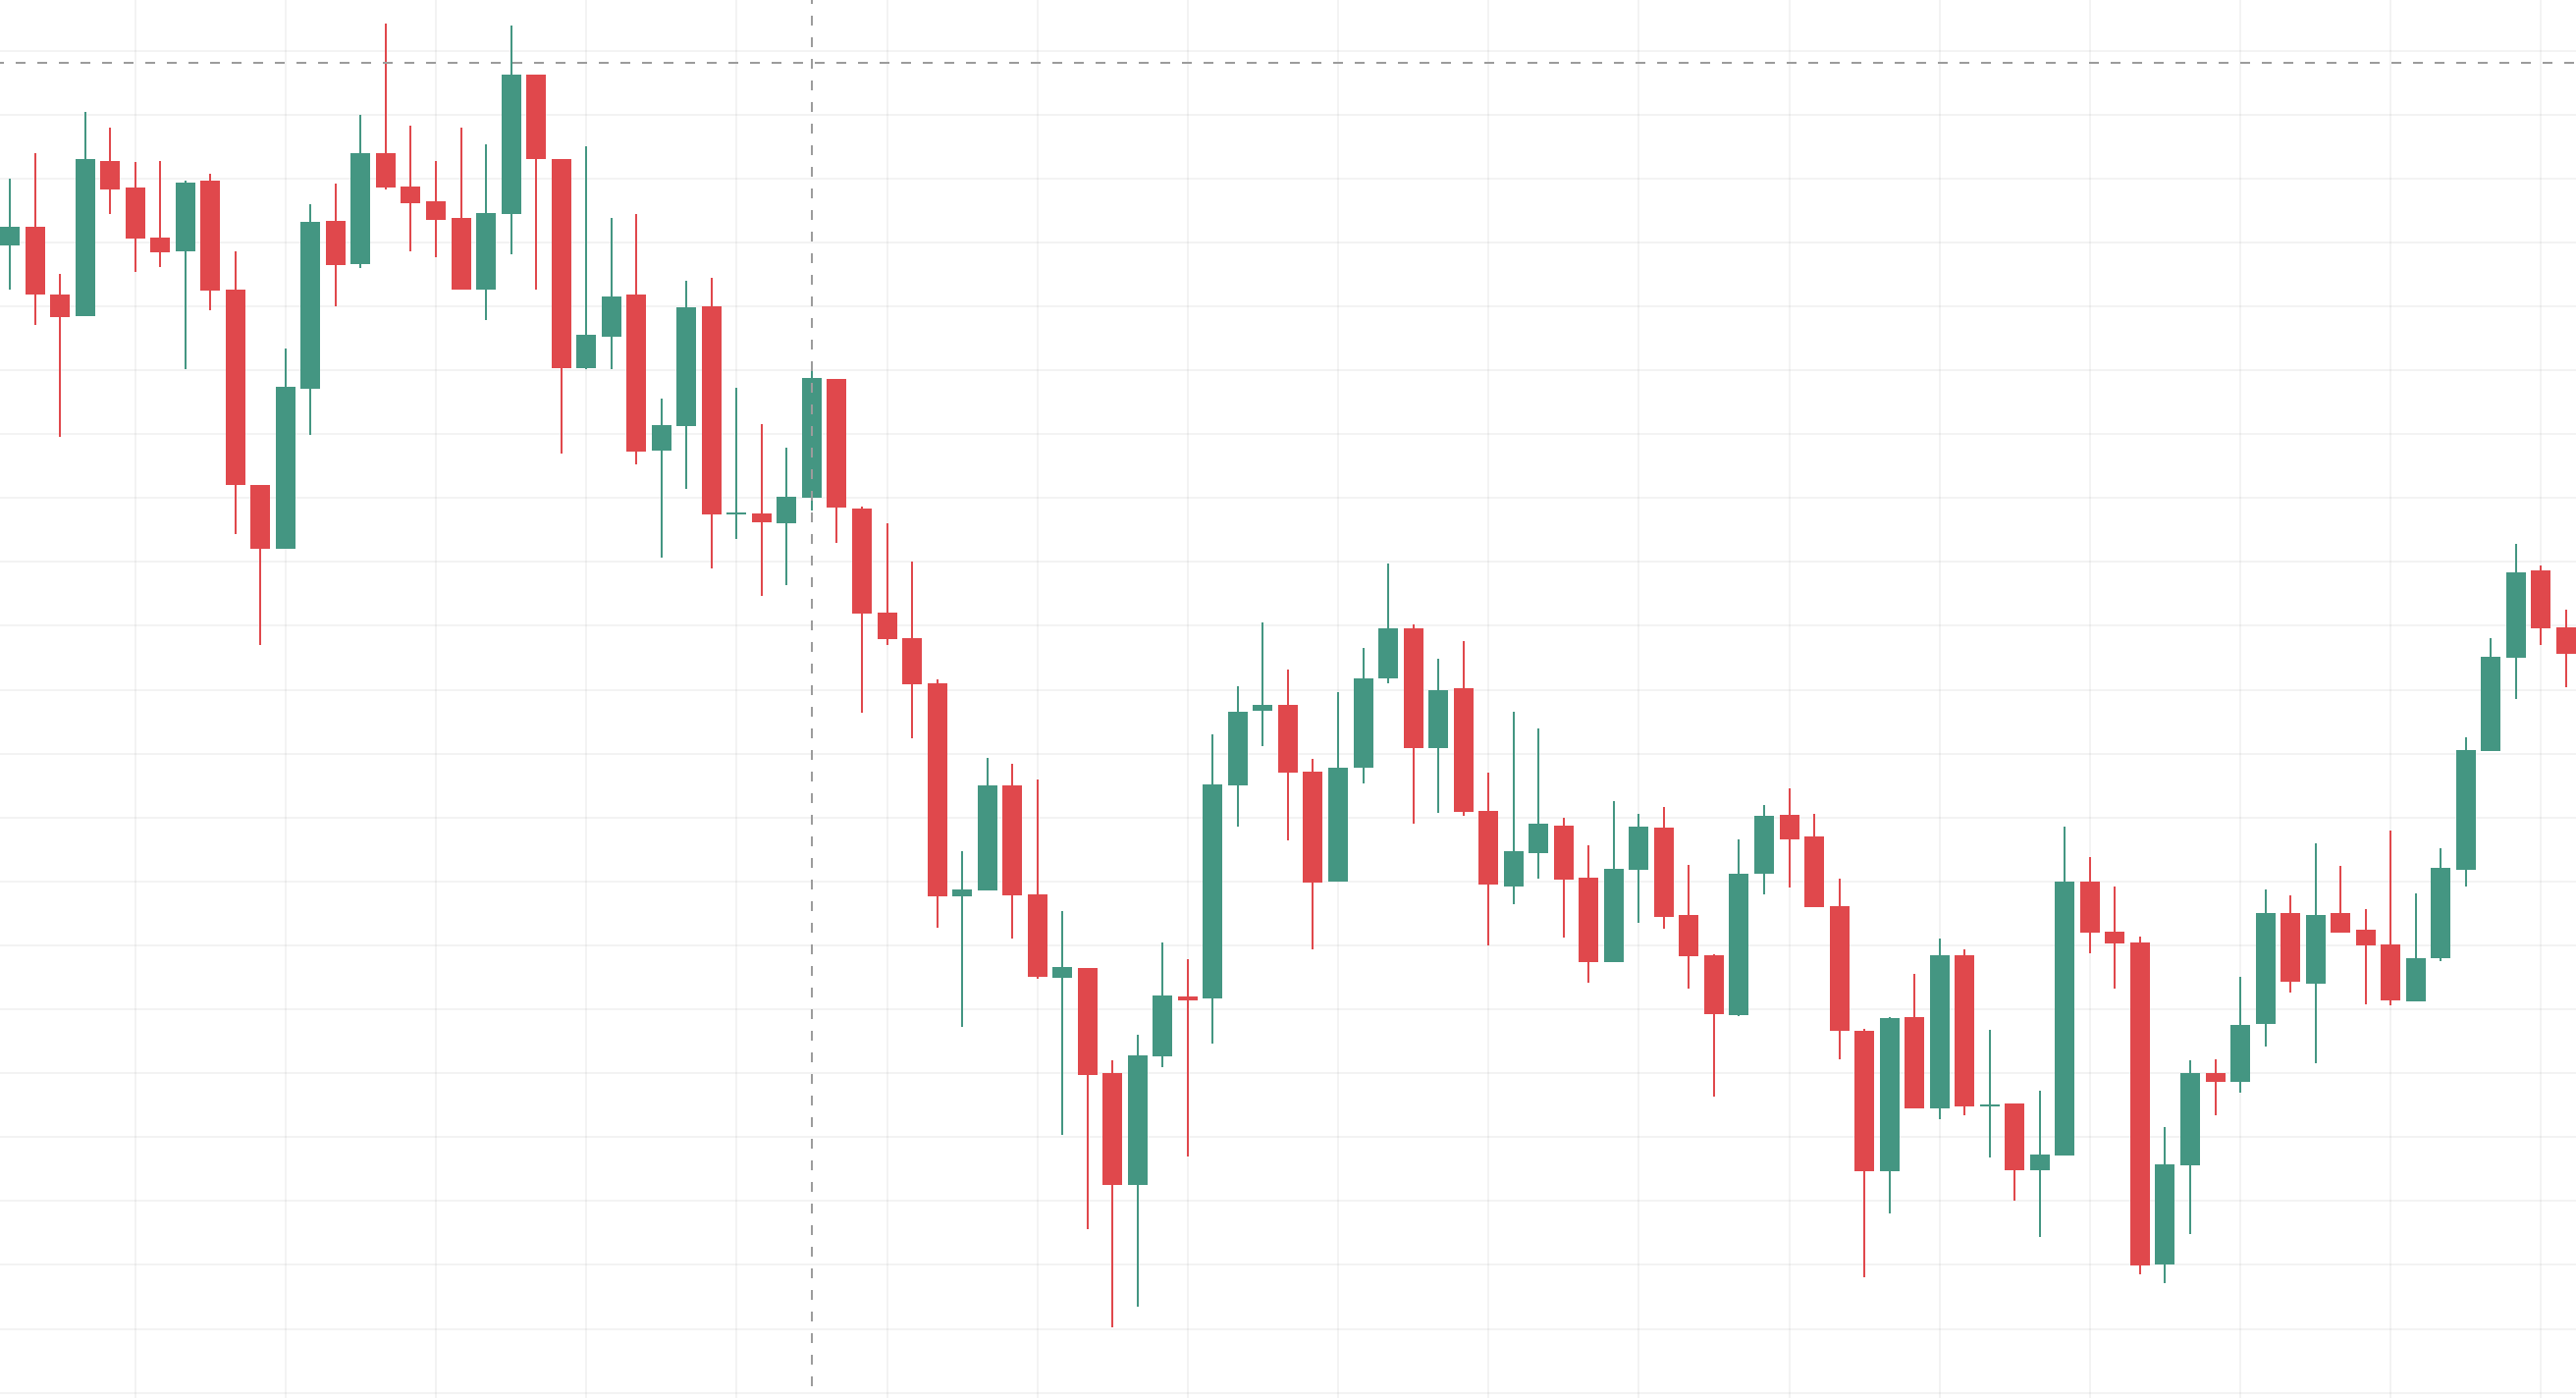V-turn: (964, 658, 1182, 1367)
